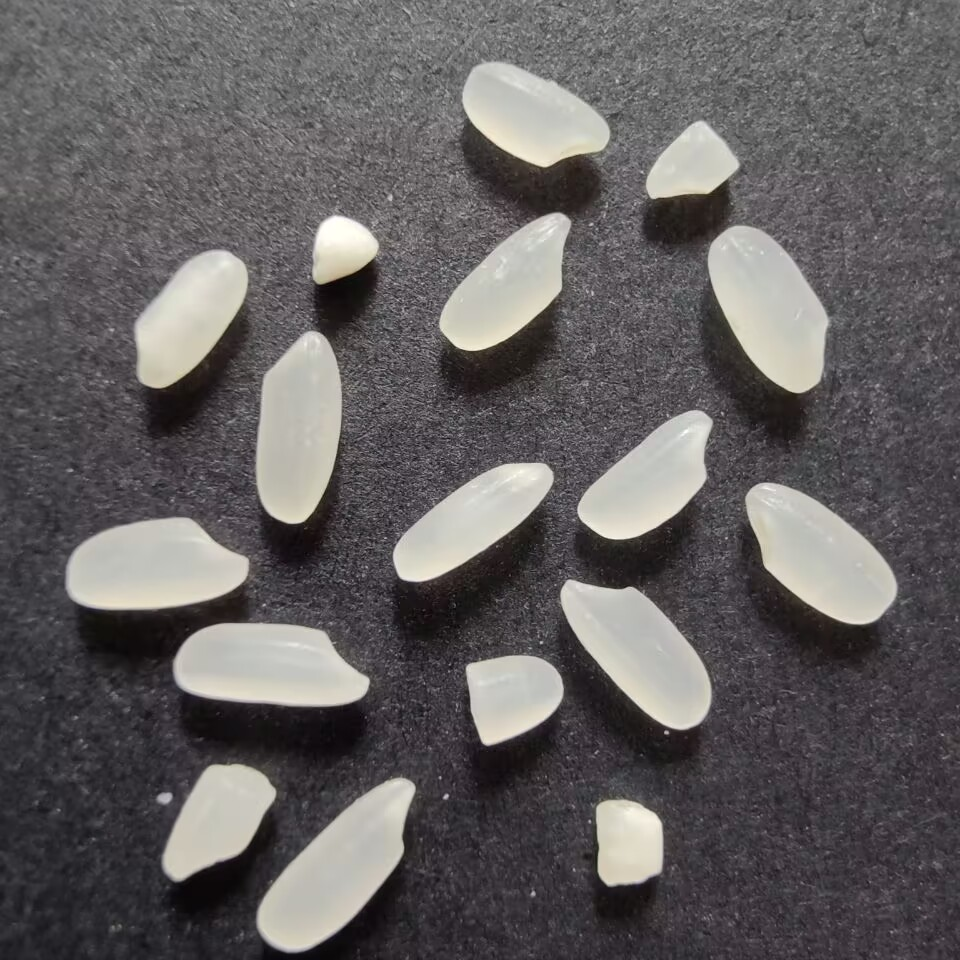broken: (157, 759, 280, 888), (459, 648, 568, 749), (642, 114, 744, 203), (587, 791, 671, 892), (308, 210, 383, 294)
rice: (253, 770, 419, 952), (742, 475, 905, 631), (557, 574, 718, 731), (384, 456, 557, 585), (707, 219, 830, 400), (432, 211, 579, 353), (247, 323, 347, 528), (570, 405, 719, 542), (57, 512, 255, 614), (167, 614, 375, 710), (126, 242, 254, 390), (458, 58, 613, 172)
